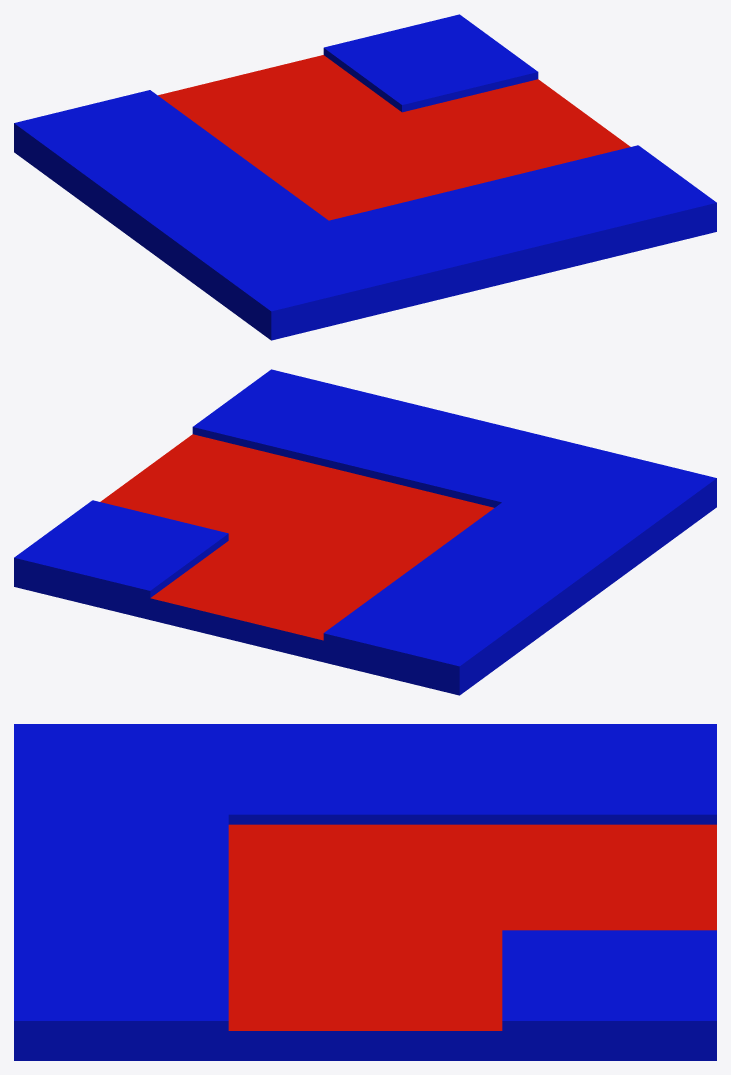
File: Corner.fbx
The picture shows the model from 3 angles, top to bottom: view 1: azimuth 30°, elevation 25°; view 2: azimuth 150°, elevation 25°; view 3: azimuth 270°, elevation 25°; orthographic projection. The views are drawn at different scales.
Visible parts, largest first — view 1: Plane.007; view 2: Plane.007; view 3: Plane.007.
Boxes of the visible parts, bbox=[...] form: Plane.007: bbox=[14, 14, 716, 340]; Plane.007: bbox=[14, 369, 716, 695]; Plane.007: bbox=[14, 724, 716, 1060].
Bounding box in the file's own units: 1600 × 100 × 1600.
